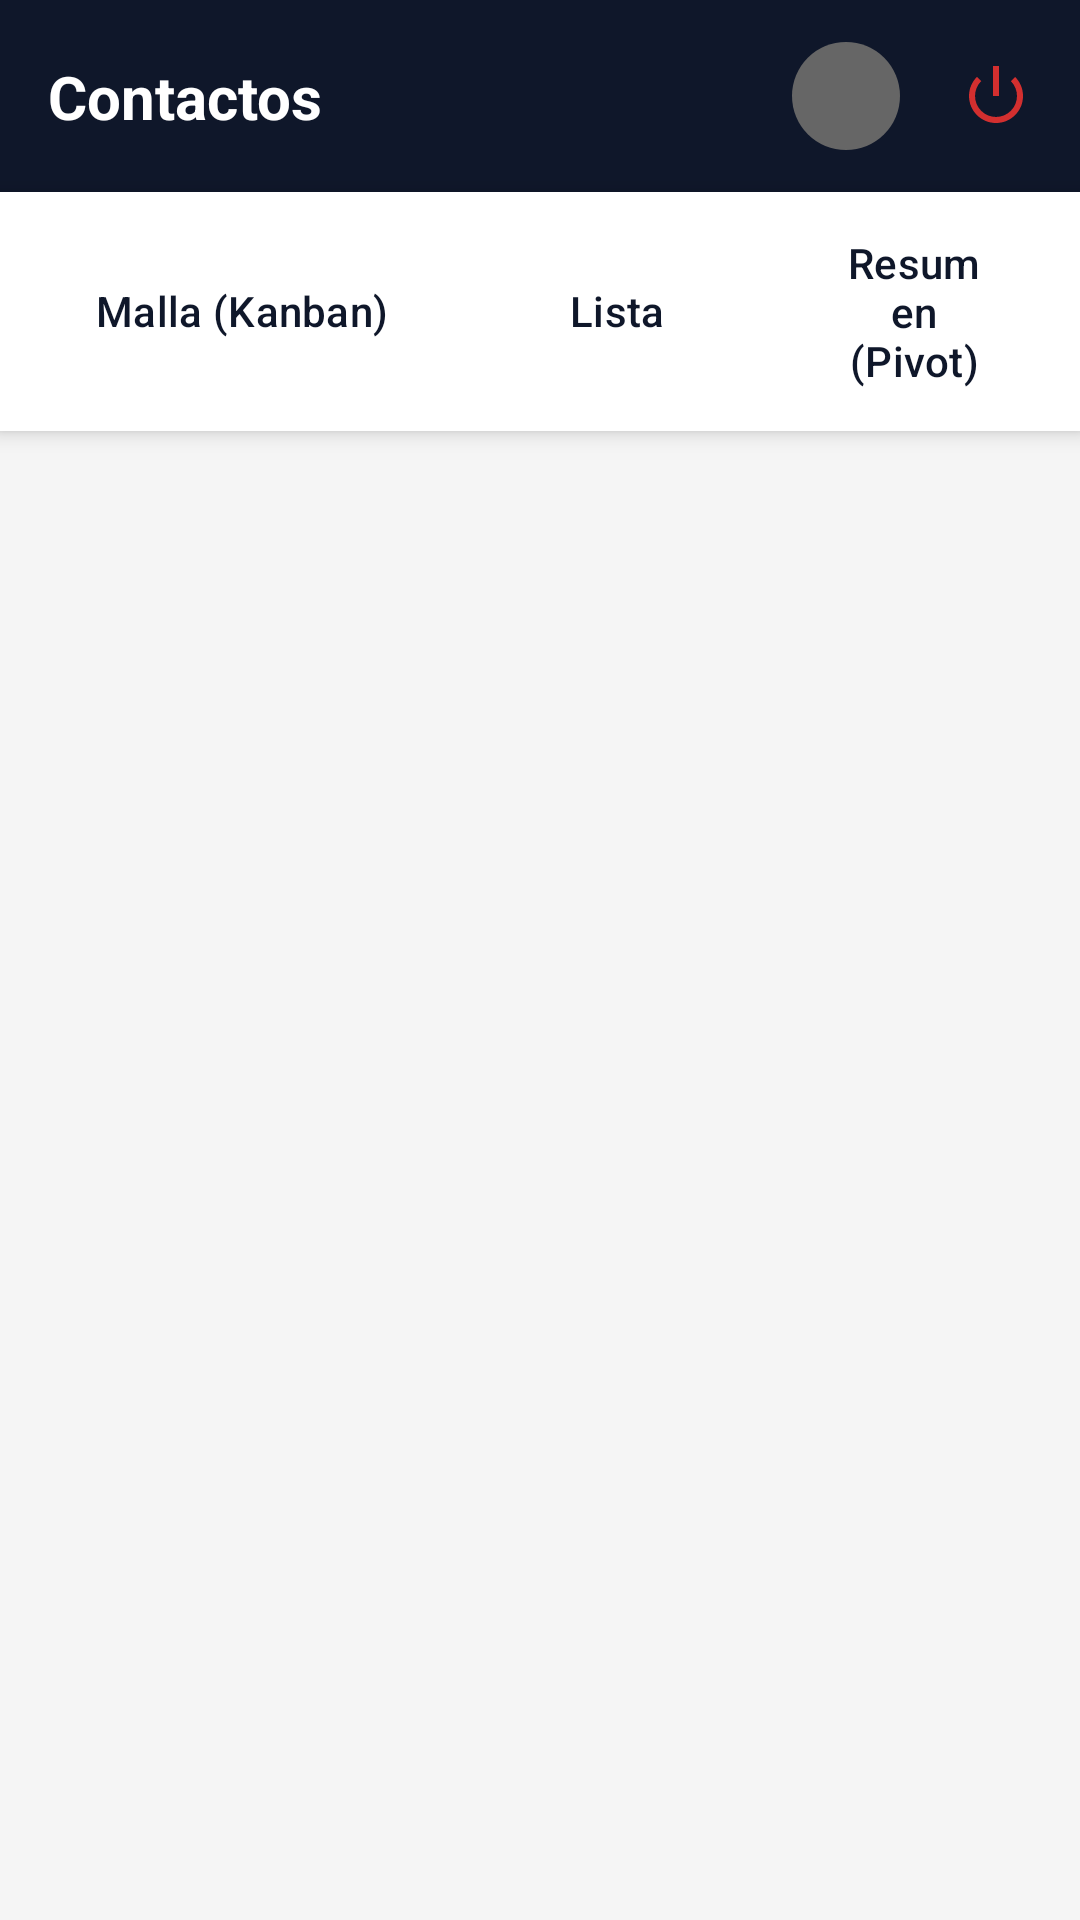

Named icons in this screenshot (1080 x 1920) and their bounding boxes, (x1, y1, x2, y2):
lock power off: (969, 66, 1023, 123)
